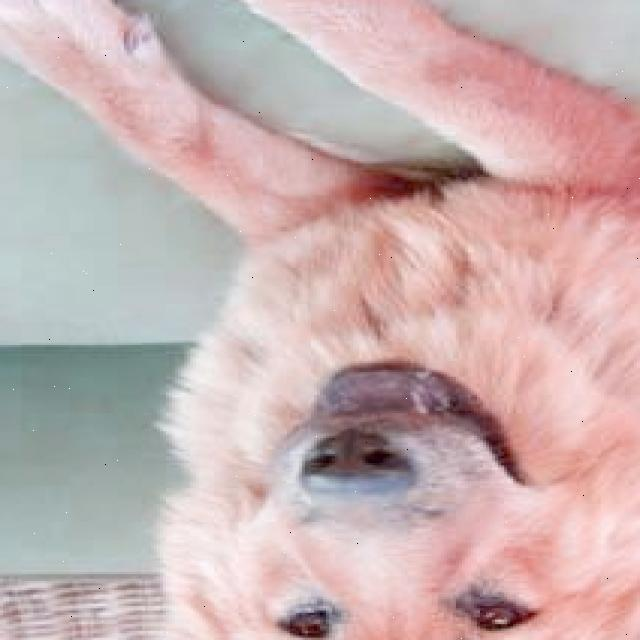Dog: (154, 347, 640, 640)
